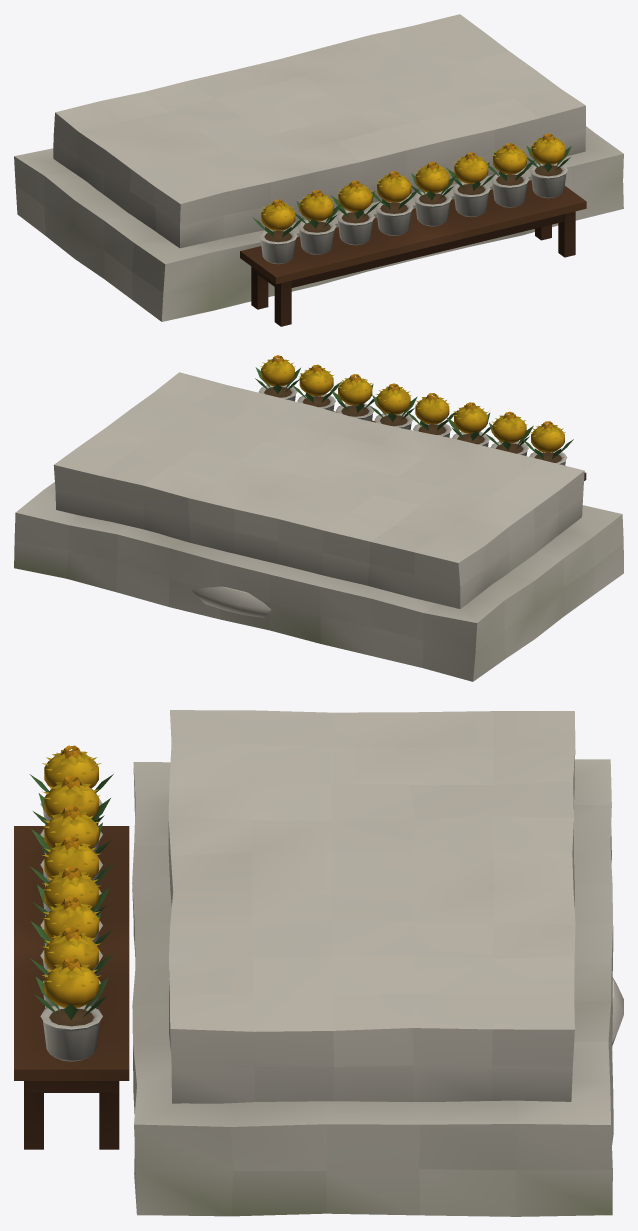
The model's file is gatbawi.glb.
The picture shows the model from 3 angles, top to bottom: view 1: azimuth 30°, elevation 25°; view 2: azimuth 150°, elevation 25°; view 3: azimuth 270°, elevation 25°; orthographic projection. The views are drawn at different scales.
Parts seen in each view (by area): view 1: pedestal, offerings; view 2: pedestal, offerings, hatStone; view 3: pedestal, offerings.
Boxes of the visible parts, bbox=[...] form: pedestal: bbox=[14, 14, 623, 321]; offerings: bbox=[240, 133, 586, 326]; pedestal: bbox=[14, 372, 623, 681]; offerings: bbox=[255, 355, 586, 480]; hatStone: bbox=[191, 586, 271, 617]; pedestal: bbox=[132, 710, 613, 1216]; offerings: bbox=[14, 745, 129, 1149].
Bounding box in the file's own units: 3.43 × 0.8206 × 2.43.
